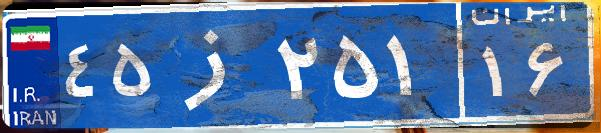1: (385, 28, 445, 110), (475, 38, 525, 113)
2: (273, 28, 330, 110)
4: (57, 26, 110, 107)
5: (330, 28, 385, 110), (110, 28, 158, 105)
6: (525, 38, 570, 115)
ز: (158, 15, 273, 115)
